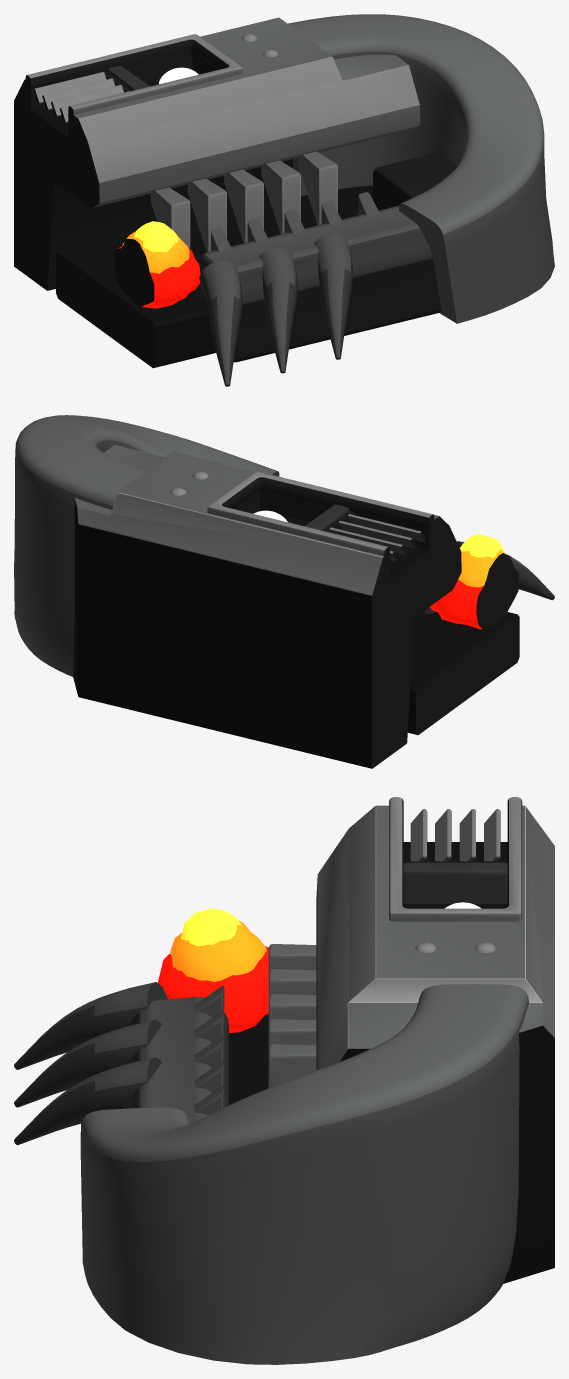
File: jaw_gun_b_right_273.glb
3 renders of one model, top to bottom at view 1: azimuth 30°, elevation 25°; view 2: azimuth 150°, elevation 25°; view 3: azimuth 270°, elevation 25°, orthographic. The views are drawn at different scales.
Parts seen in each view (by area): view 1: upper_jaw.001, hinge.001, lower_jaw.001, mouth_floor.001, bezel.001, fireball0.001, fang2.001, fang1.001, fang0.001, cheek.001, upper_tooth0.001, upper_tooth1.001 (+9 smaller); view 2: upper_jaw.001, hinge.001, mouth_floor.001, bezel.001, fireball0.001, fireball1.001, fang2.001, fireball2.001, slat0.001, slat1.001, divider.001, slat2.001; view 3: hinge.001, upper_jaw.001, lower_jaw.001, bezel.001, fang2.001, fang0.001, fang1.001, divider.001, fireball0.001, fireball1.001, mouth_floor.001, upper_tooth0.001 (+9 smaller).
Part boxes in pixels (box(x1,y1,x2,y2)): upper_jaw.001: box(14, 17, 420, 290); hinge.001: box(288, 14, 554, 323); lower_jaw.001: box(194, 205, 441, 362); mouth_floor.001: box(56, 185, 372, 368); bezel.001: box(25, 34, 242, 123); fireball0.001: box(113, 246, 200, 308); fang2.001: box(199, 261, 242, 386); fang1.001: box(258, 247, 297, 373); fang0.001: box(313, 234, 352, 359); cheek.001: box(373, 153, 456, 210); upper_tooth0.001: box(298, 151, 337, 225); upper_tooth1.001: box(261, 160, 300, 234); upper_jaw.001: box(73, 445, 461, 768); hinge.001: box(14, 415, 279, 676); mouth_floor.001: box(407, 612, 519, 734); bezel.001: box(207, 471, 434, 564); fireball0.001: box(430, 565, 518, 629); fireball1.001: box(458, 549, 514, 609); fang2.001: box(456, 541, 554, 600); fireball2.001: box(459, 534, 503, 569); slat0.001: box(347, 514, 426, 542); slat1.001: box(338, 520, 416, 548); divider.001: box(305, 504, 349, 530); slat2.001: box(329, 527, 407, 555); hinge.001: box(80, 984, 528, 1364); upper_jaw.001: box(316, 805, 554, 1283); lower_jaw.001: box(121, 997, 229, 1123); bezel.001: box(389, 797, 522, 921); fang2.001: box(14, 982, 167, 1069); fang0.001: box(14, 1057, 162, 1145); fang1.001: box(14, 1019, 162, 1107); divider.001: box(403, 863, 507, 903); fireball0.001: box(157, 946, 268, 1033); fireball1.001: box(170, 920, 266, 981); mouth_floor.001: box(229, 1014, 268, 1104); upper_tooth0.001: box(268, 1044, 316, 1087).
Size of the model in its own units: 22.94 by 10.42 by 18.24.
